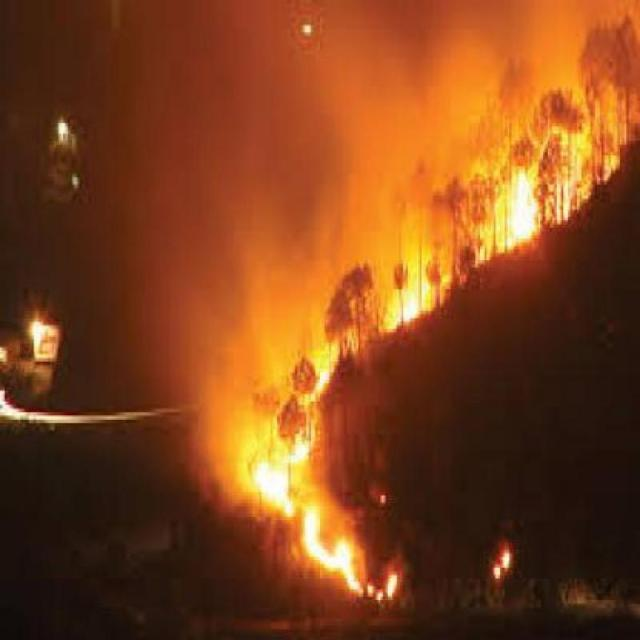Fire: (223, 392, 402, 620), (458, 152, 604, 252), (332, 198, 428, 338), (482, 532, 528, 584)
